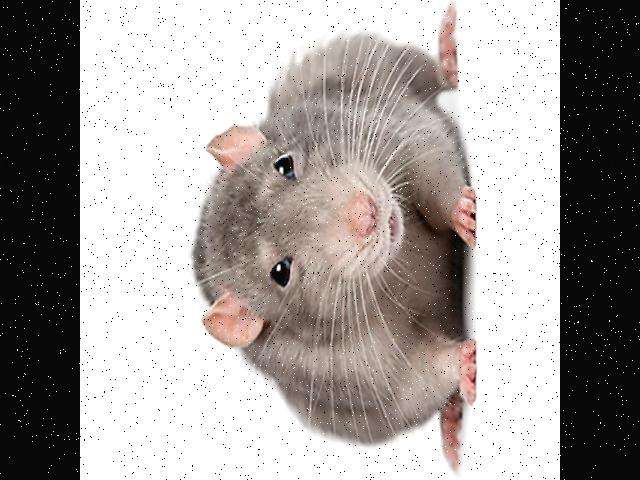Tikus: (184, 0, 476, 475)
